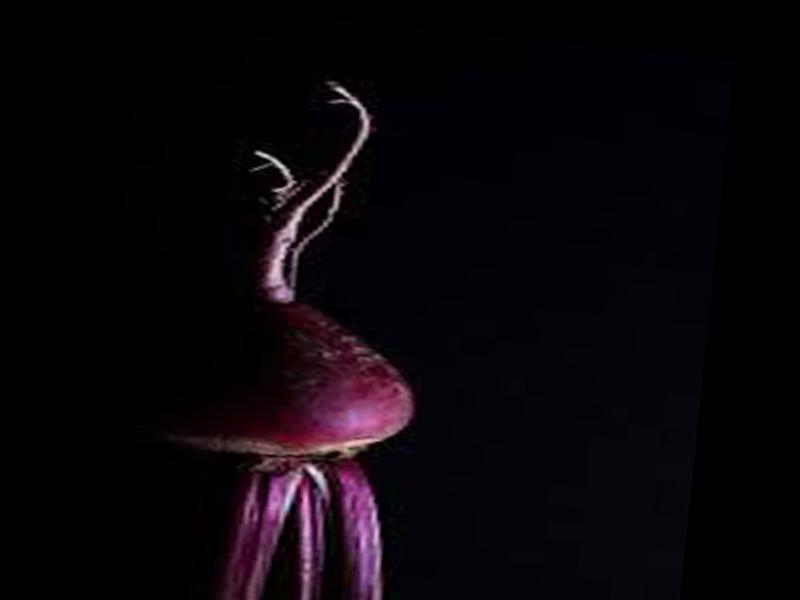Beet: (117, 64, 463, 600)
